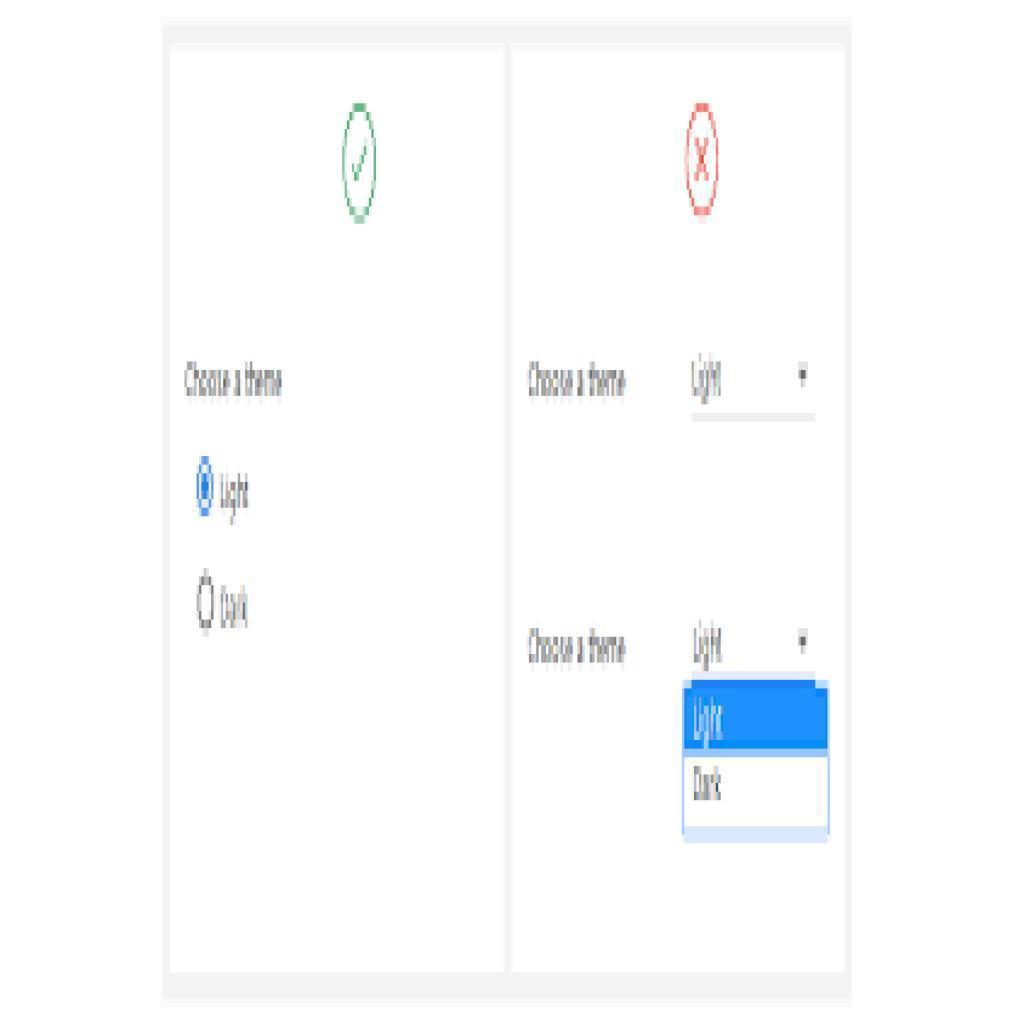button: (682, 679, 830, 758)
radio: (340, 101, 378, 225), (684, 102, 718, 225), (192, 455, 217, 521), (194, 569, 217, 638)
